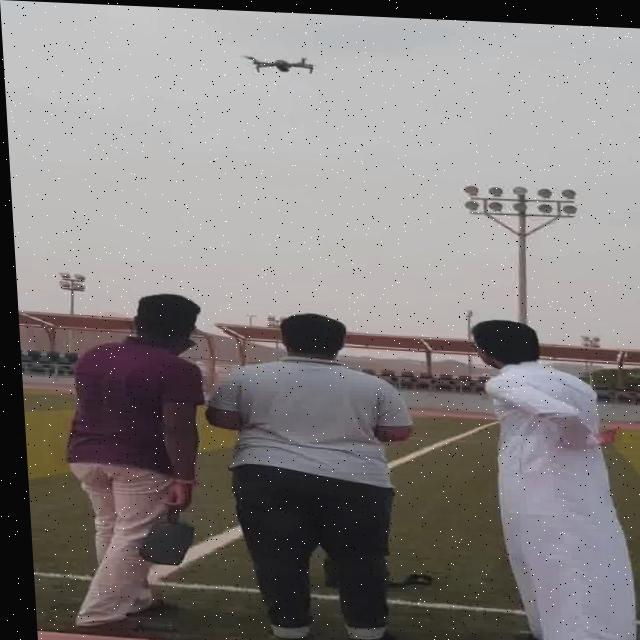drone: (224, 45, 335, 81)
